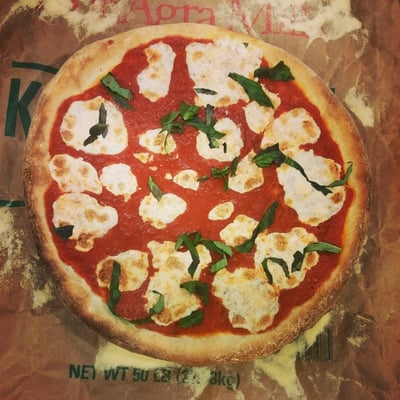sandwich: (24, 19, 368, 388)
